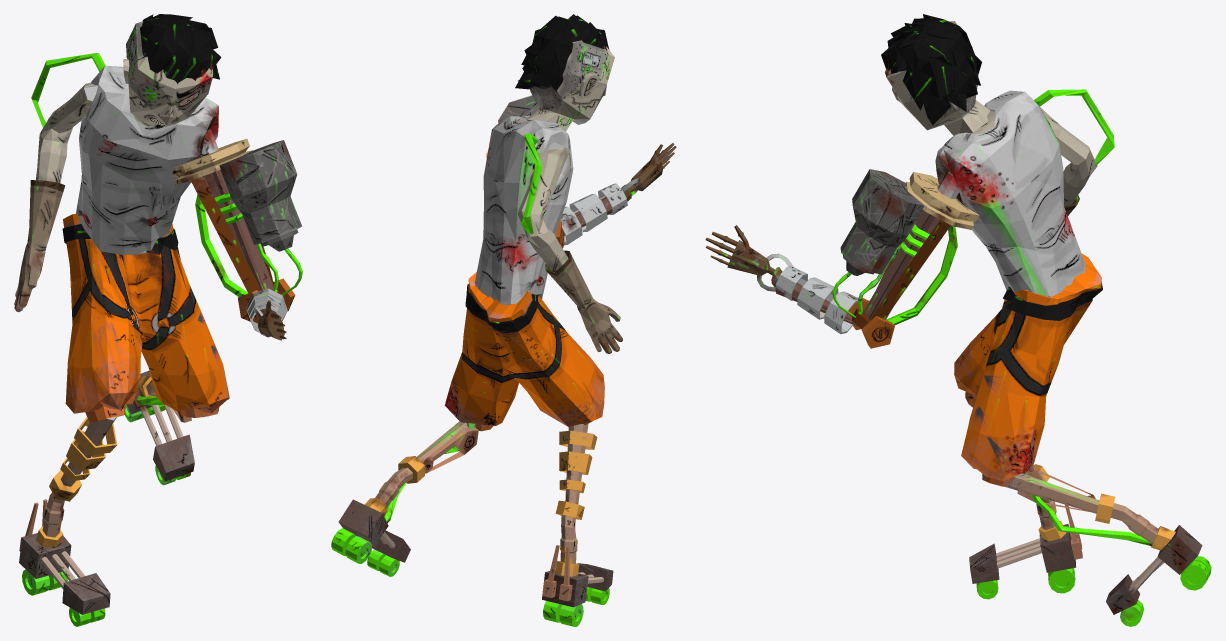
The model's file is CyborgFINALAnimation_000008.obj.
3 renders of one model, left to right at view 1: azimuth 30°, elevation 25°; view 2: azimuth 150°, elevation 25°; view 3: azimuth 270°, elevation 25°, orthographic. The views are drawn at different scales.
Visible parts, largest first — view 1: CyborgMesh_Cube.002; view 2: CyborgMesh_Cube.002; view 3: CyborgMesh_Cube.002.
Boxes of the visible parts, x1,y1,x2,y2 form: CyborgMesh_Cube.002: [14, 14, 302, 626]; CyborgMesh_Cube.002: [331, 14, 676, 626]; CyborgMesh_Cube.002: [705, 14, 1211, 626].
Size of the model in its own units: 3.49 by 8.84 by 6.77.
